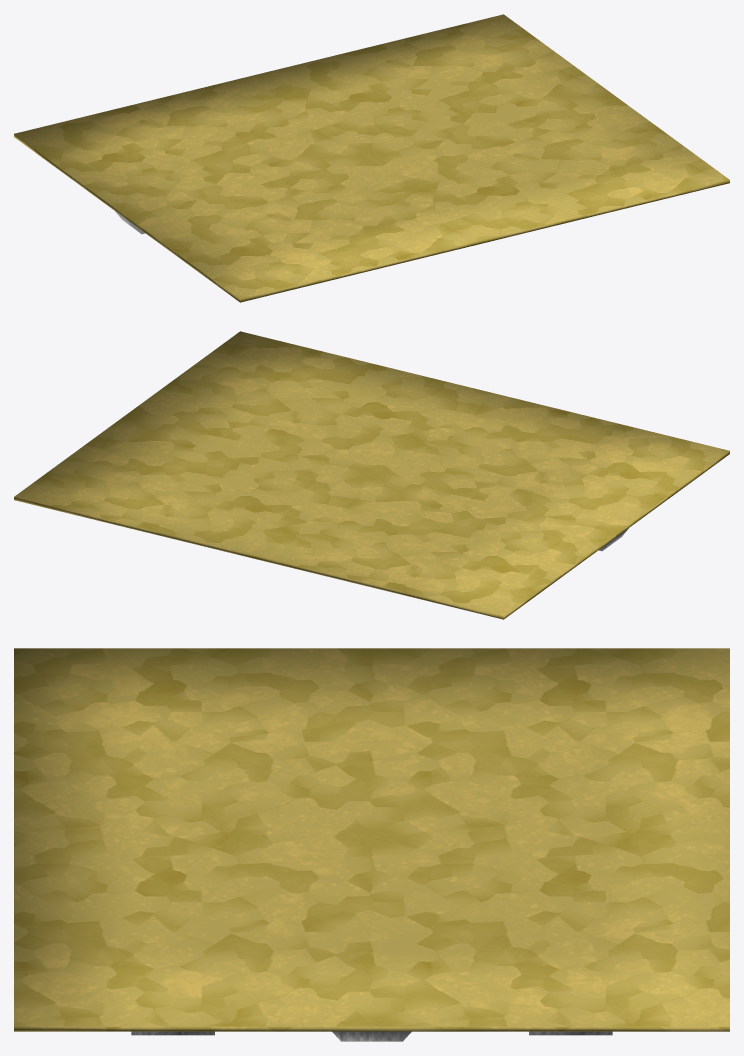
Rendered from containerroofwithtexture.obj.
3 views of the same model, one above another, from view 1: azimuth 30°, elevation 25°; view 2: azimuth 150°, elevation 25°; view 3: azimuth 270°, elevation 25° (orthographic). The views are drawn at different scales.
Visible parts, largest first — view 1: default; view 2: default; view 3: default.
Part boxes in pixels (box(x1,y1,x2,y2)): default: box(14, 14, 729, 302); default: box(14, 331, 729, 619); default: box(14, 648, 729, 1041).
Bounding box in the file's own units: 600 × 26.48 × 480.
